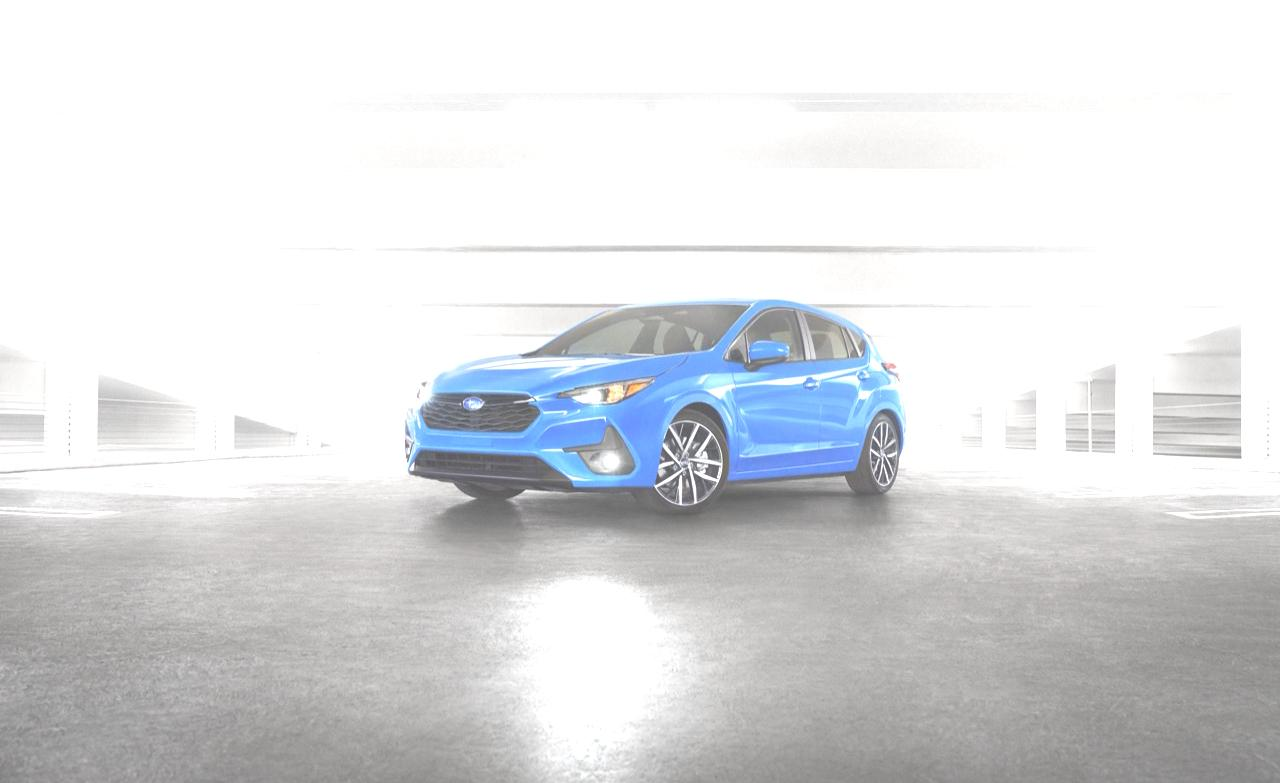subaru: (454, 389, 491, 420)
